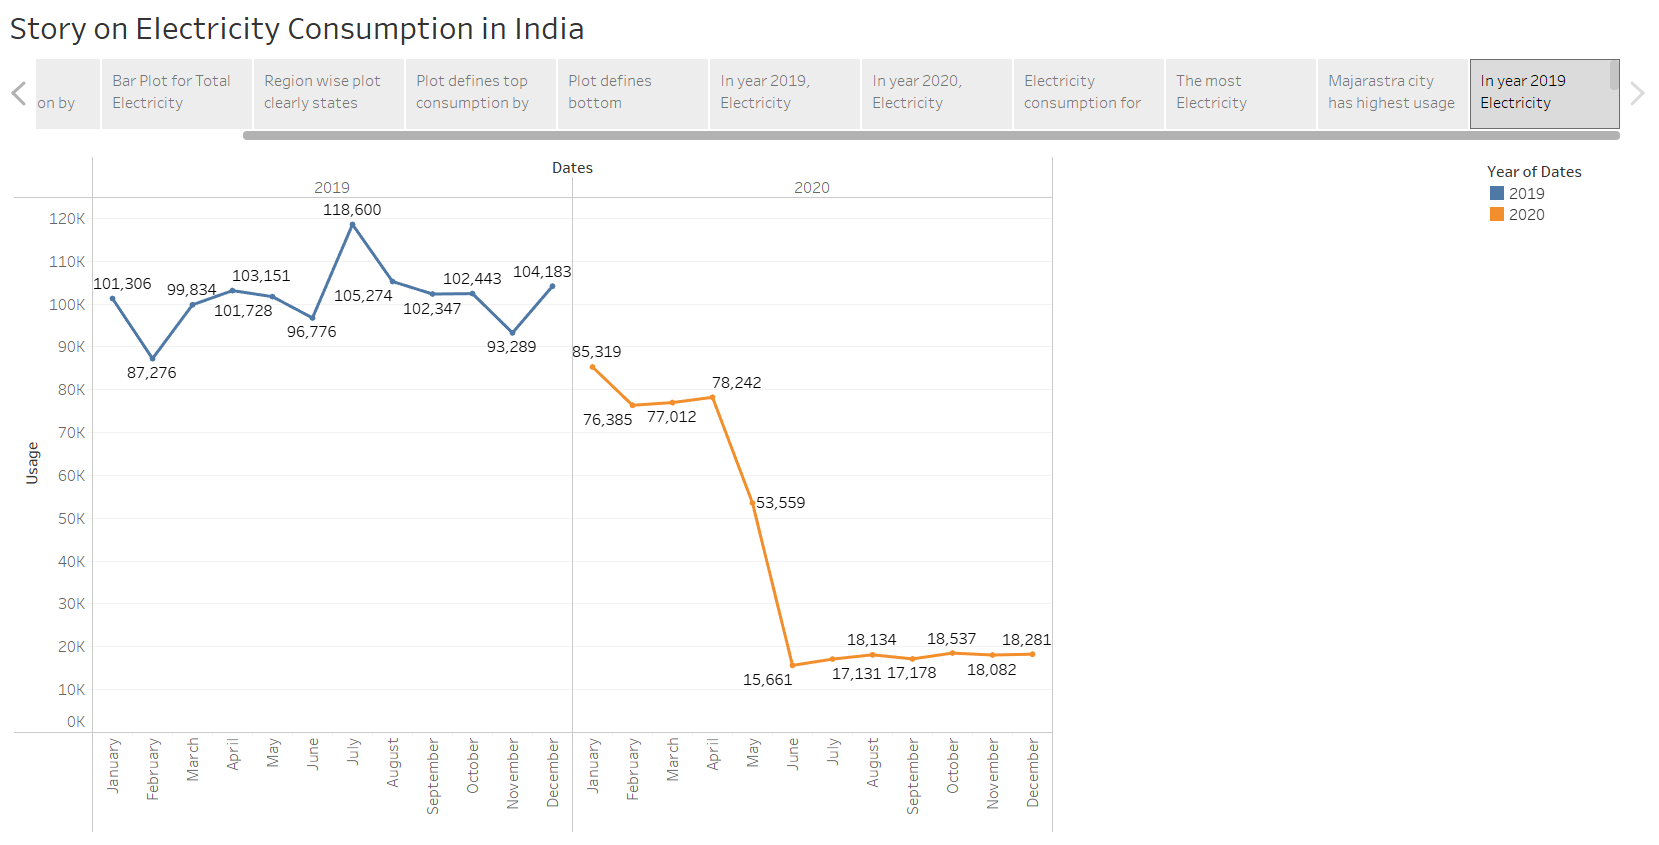

The dashboard page shown, as its layout file describes it:
{"tool":"tableau","page":{"name":"Dashboard 3","canvas":[1000,1000],"units":"permille","ordinal":2},"visuals":[{"type":"worksheet","title":"Quarter wise usage","mark":"Bar","rows":["Usage"],"cols":["Dates","Dates"],"box":[0.6,1.2,381.9,485.3]},{"type":"worksheet","title":"2019 Month Wise Consumption","mark":"Bar","rows":["Usage"],"cols":["Dates","Dates","Dates"],"box":[383.7,2.4,502.4,479.4]},{"type":"legend","title":"Quarter wise usage","param":"[federated.0f68l961e6sr3f194c8j3160mdyu].[sum:Usage:qk]","box":[898.6,9.4,96.6,85.8]},{"type":"legend","title":"Usage By Year","param":"[federated.0f68l961e6sr3f194c8j3160mdyu].[yr:Dates:ok]","box":[898.6,95.2,96.6,84.6]},{"type":"legend","title":"2019 Month Wise Consumption","param":"[federated.0f68l961e6sr3f194c8j3160mdyu].[mn:Dates:ok]","box":[898.6,179.8,96.6,331.4]},{"type":"worksheet","title":"2020 Month Wise Consumption","mark":"Bar","rows":["Usage"],"cols":["Dates","Dates","Dates"],"box":[384.3,487.7,503.6,508.8]},{"type":"worksheet","title":"Usage By Year","mark":"Automatic","rows":["Usage"],"cols":["Dates","Dates"],"box":[0.6,491.2,381.9,511.2]},{"type":"dashboard-object","box":[762.1,781.4,98.8,61.1]}]}

Visuals, with their boxes on the dashboard's canvas, which has no fixed pixel size, in thousandths of its width and height (x1, y1, x2, y2). These are canvas units, not pixel positions in the 1659x845 screenshot, which may show the page scaled, cropped or inside an application window:
"Quarter wise usage" worksheet (Bar marks): bbox=(1, 1, 382, 486)
"2019 Month Wise Consumption" worksheet (Bar marks): bbox=(384, 2, 886, 482)
"Quarter wise usage" legend: bbox=(899, 9, 995, 95)
"Usage By Year" legend: bbox=(899, 95, 995, 180)
"2019 Month Wise Consumption" legend: bbox=(899, 180, 995, 511)
"2020 Month Wise Consumption" worksheet (Bar marks): bbox=(384, 488, 888, 996)
"Usage By Year" worksheet: bbox=(1, 491, 382, 1002)
dashboard-object: bbox=(762, 781, 861, 842)
